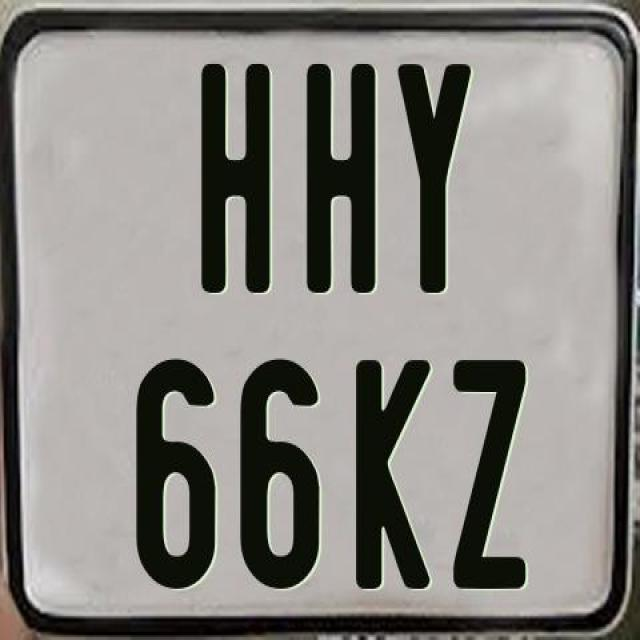6: (238, 358, 322, 596), (134, 356, 213, 590)
H: (304, 64, 380, 298), (200, 64, 272, 302)
K: (356, 358, 439, 592)
Y: (398, 61, 473, 296)
Z: (451, 358, 526, 592)
